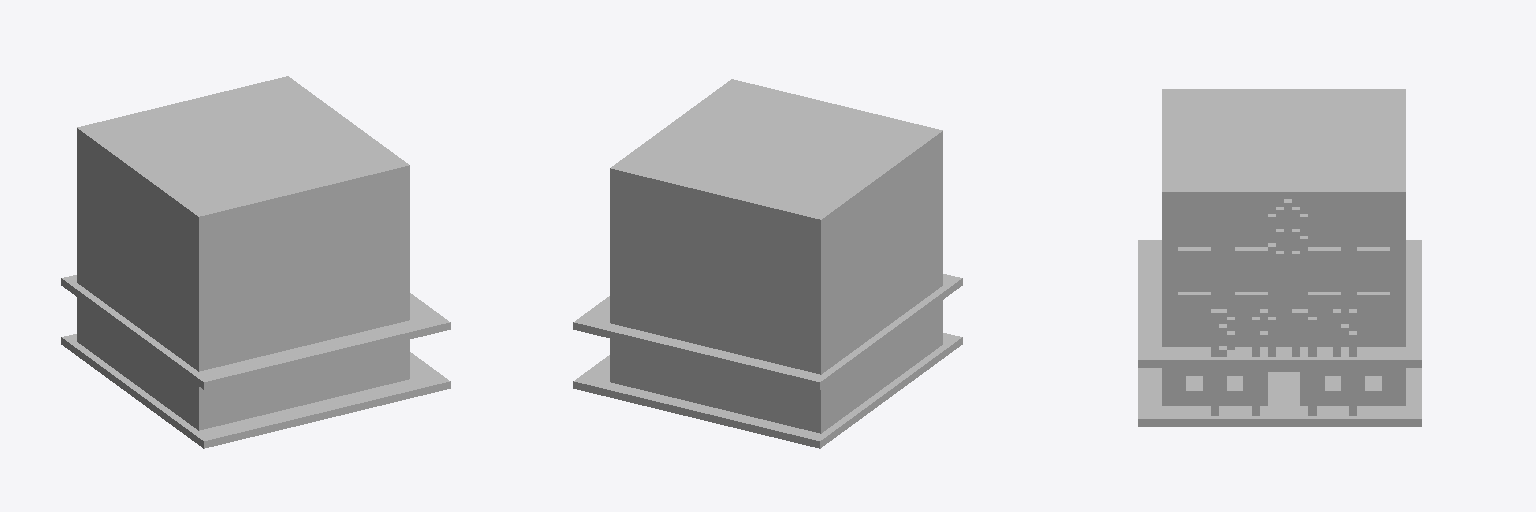
The model's file is bank.obj.
3 views of the same model, side by side, from view 1: azimuth 30°, elevation 25°; view 2: azimuth 150°, elevation 25°; view 3: azimuth 270°, elevation 25° (orthographic).
Size of the model in its own units: 35 by 30 by 35.